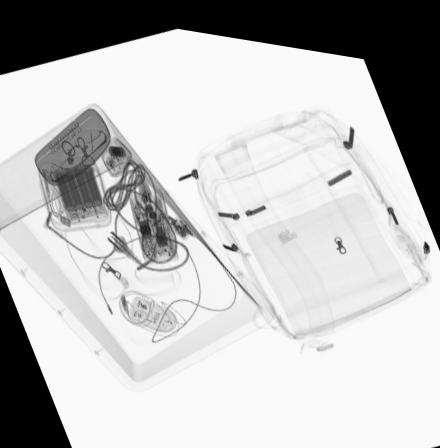Powerbank: (49, 158, 110, 220)
